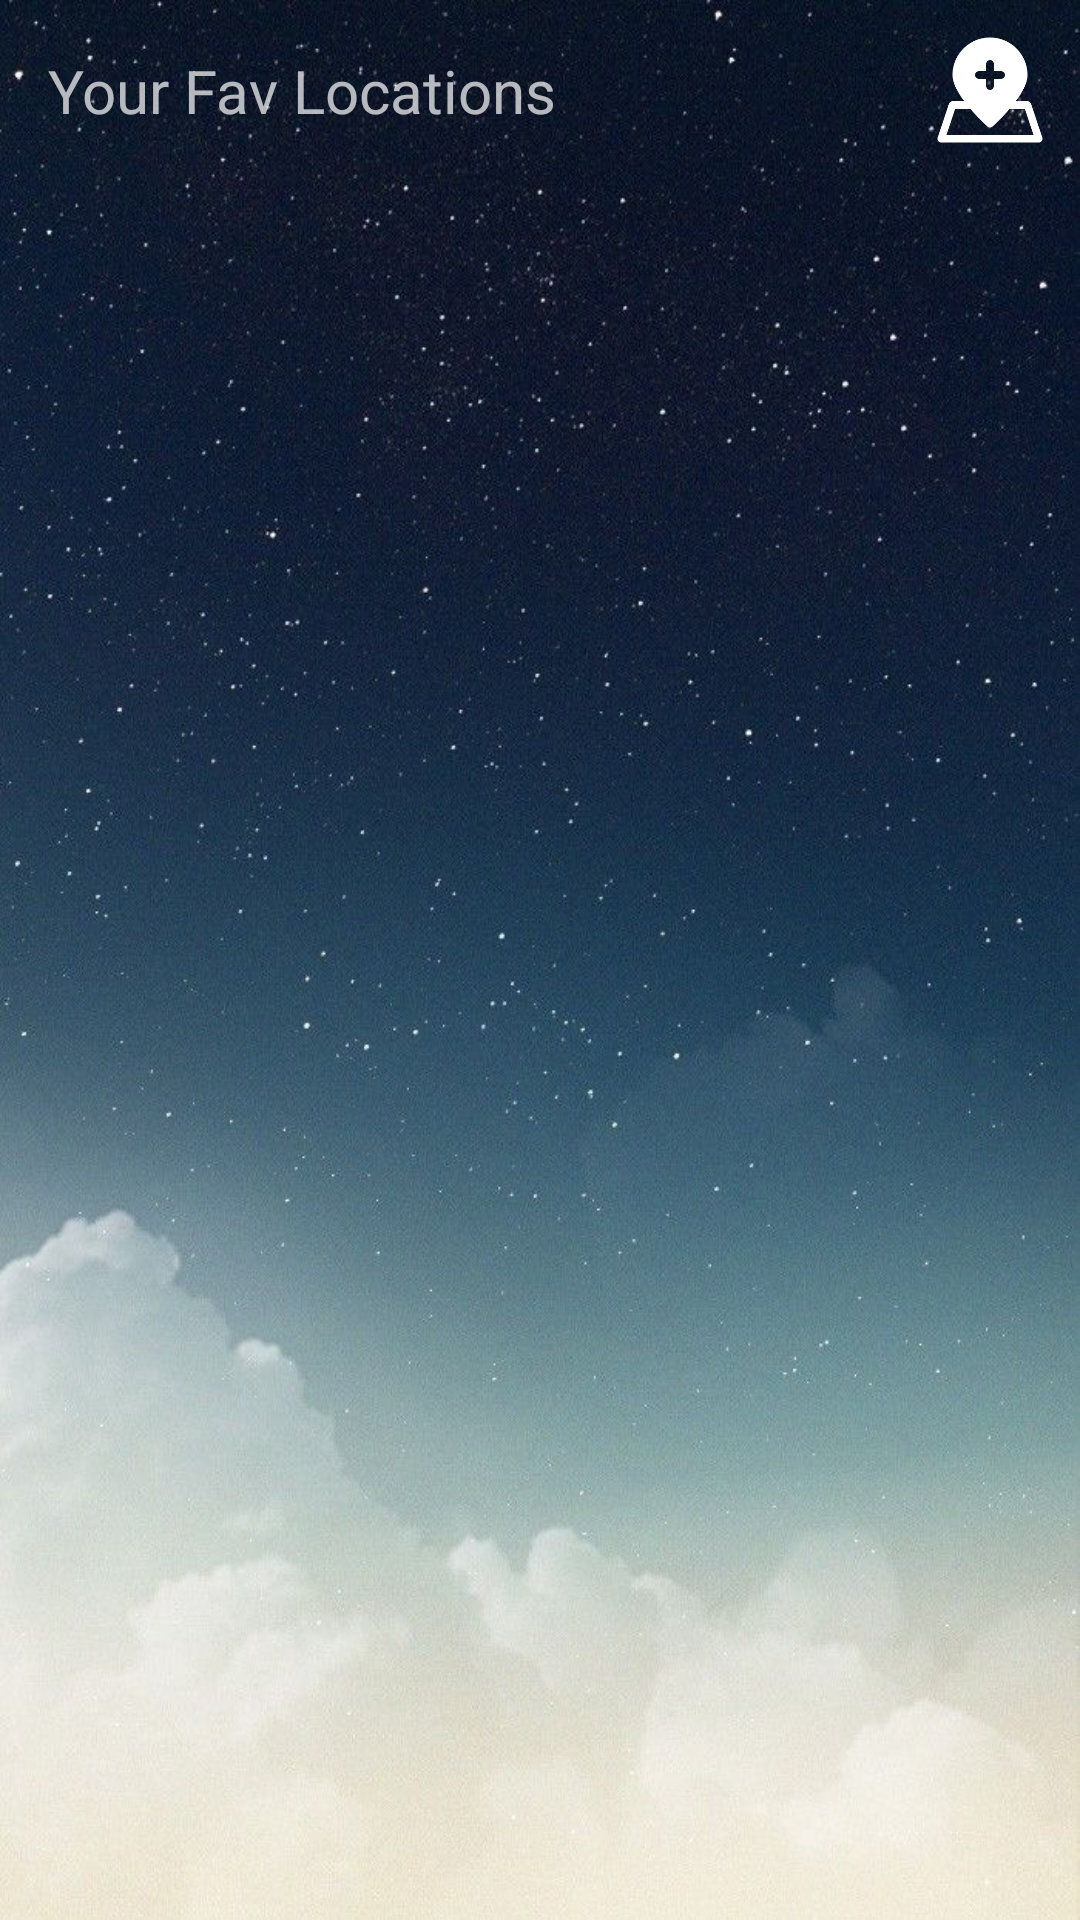

Point at icon controls on the screen. Image size 1080w x 1920h, points as point (x, y).
add location: point (990, 93)
